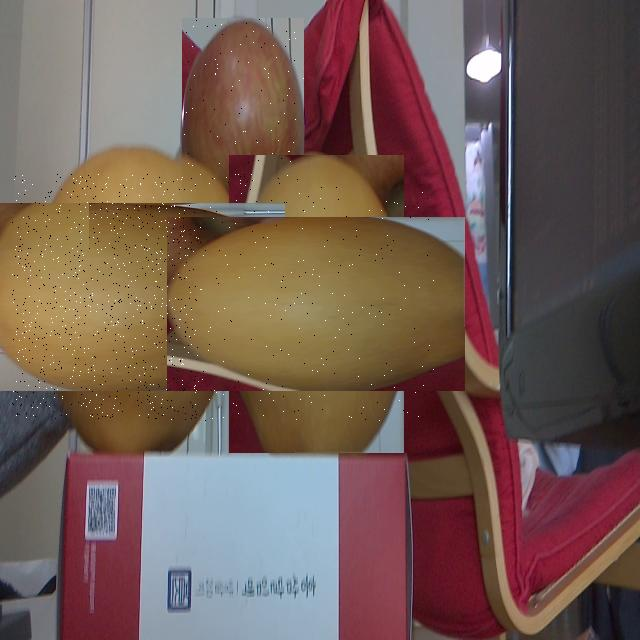apple: (182, 18, 304, 251)
pear: (12, 174, 257, 420), (198, 186, 435, 422)
